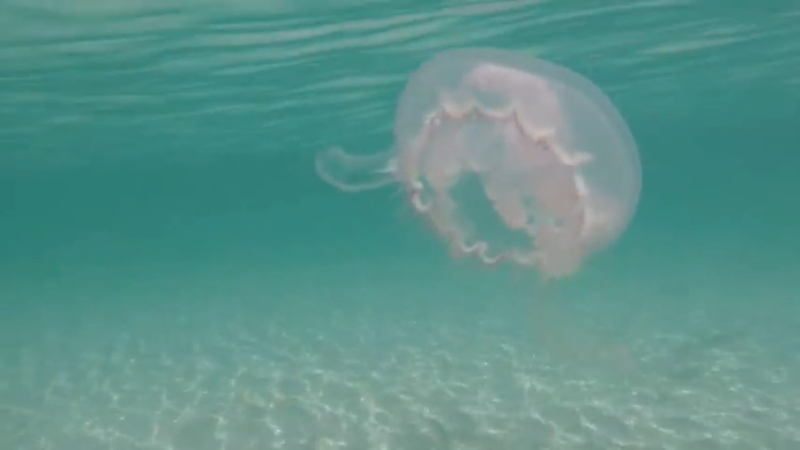white jellyfish: (392, 52, 644, 283)
